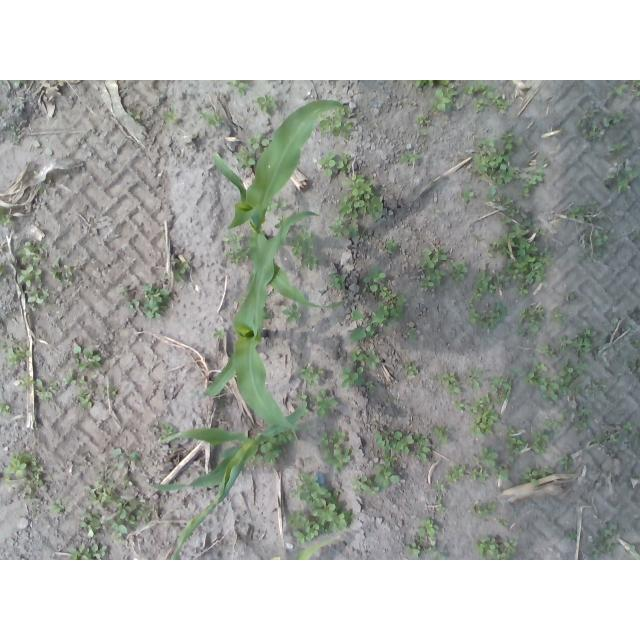Maize: (209, 100, 357, 311), (204, 210, 319, 431), (156, 405, 307, 560)
Weeds: (281, 472, 355, 544), (487, 218, 551, 298), (471, 132, 525, 189), (336, 173, 384, 220), (3, 451, 45, 504), (104, 498, 153, 543), (370, 420, 415, 456), (249, 430, 295, 465), (287, 225, 322, 271), (319, 429, 354, 474), (84, 462, 118, 506), (468, 394, 501, 438), (486, 187, 521, 225), (519, 155, 549, 198), (349, 310, 387, 343), (319, 105, 354, 140), (418, 249, 446, 292), (140, 284, 171, 321), (476, 536, 521, 561), (374, 292, 408, 325), (580, 229, 611, 263), (597, 522, 626, 555), (373, 457, 400, 492), (223, 231, 250, 266), (606, 166, 638, 195), (539, 376, 571, 405), (429, 80, 457, 113), (517, 306, 545, 337), (310, 388, 339, 417), (477, 302, 507, 330), (72, 345, 102, 372), (17, 240, 47, 267), (570, 328, 597, 357), (348, 344, 380, 368), (68, 541, 108, 560), (484, 87, 512, 114), (76, 510, 102, 539), (364, 266, 389, 296), (505, 425, 527, 458), (108, 447, 141, 469), (520, 465, 554, 486), (567, 201, 598, 224), (489, 374, 512, 405), (559, 360, 589, 383), (50, 258, 74, 286), (433, 372, 462, 395), (472, 268, 492, 301), (329, 215, 359, 237), (161, 258, 187, 283), (573, 402, 595, 430), (417, 517, 439, 545), (523, 360, 547, 385), (18, 264, 42, 288), (340, 366, 365, 389), (353, 476, 380, 497), (26, 287, 50, 310), (465, 365, 487, 390), (448, 258, 469, 283), (429, 425, 454, 446), (300, 366, 325, 387), (253, 94, 278, 115), (530, 429, 550, 455), (5, 344, 31, 364), (318, 151, 337, 178), (199, 109, 226, 128), (13, 375, 43, 392), (413, 434, 431, 461), (471, 501, 498, 519), (477, 445, 499, 467), (248, 133, 273, 152), (603, 109, 626, 129), (575, 110, 598, 130), (234, 148, 257, 168), (35, 383, 58, 402), (333, 153, 352, 175), (293, 390, 309, 415), (158, 422, 178, 442), (226, 80, 251, 96), (47, 499, 69, 517), (465, 296, 479, 324), (585, 378, 608, 395), (461, 81, 487, 96), (283, 302, 302, 322), (445, 464, 465, 482), (423, 545, 446, 560), (163, 108, 181, 127), (326, 273, 346, 290), (607, 83, 629, 98), (491, 466, 510, 483), (76, 390, 93, 409), (539, 417, 562, 431), (556, 334, 572, 354), (32, 141, 53, 156), (63, 374, 85, 388), (404, 541, 421, 559), (539, 345, 559, 360), (266, 197, 286, 212), (582, 125, 603, 139), (610, 141, 630, 155), (559, 453, 574, 471), (401, 150, 420, 164), (611, 317, 630, 331), (624, 358, 640, 374), (461, 183, 475, 201), (10, 124, 22, 145), (551, 308, 565, 325), (402, 361, 419, 375), (1, 206, 12, 227), (591, 432, 608, 445), (620, 420, 638, 432), (473, 98, 487, 113), (101, 385, 119, 396), (507, 367, 526, 377), (383, 240, 397, 253), (630, 80, 640, 98), (125, 298, 140, 310), (274, 214, 286, 229), (435, 495, 445, 513), (588, 545, 600, 560), (572, 384, 585, 397), (598, 338, 612, 350), (121, 475, 136, 486), (127, 109, 142, 120), (0, 402, 10, 418), (455, 399, 466, 413), (415, 115, 430, 125), (408, 326, 417, 342), (212, 328, 224, 340), (415, 81, 434, 88), (435, 483, 447, 494), (496, 517, 508, 528), (263, 306, 272, 320), (9, 81, 27, 88), (117, 287, 129, 297), (469, 468, 479, 480), (472, 234, 485, 243), (609, 433, 619, 444), (567, 530, 578, 540), (480, 470, 489, 482), (1, 340, 8, 353), (236, 296, 247, 304), (432, 209, 441, 218), (366, 380, 375, 389), (218, 397, 227, 406), (559, 407, 567, 417), (633, 339, 640, 348), (388, 397, 397, 404), (38, 186, 45, 195), (0, 261, 4, 276), (421, 128, 428, 136), (549, 517, 555, 523), (0, 106, 4, 113)
